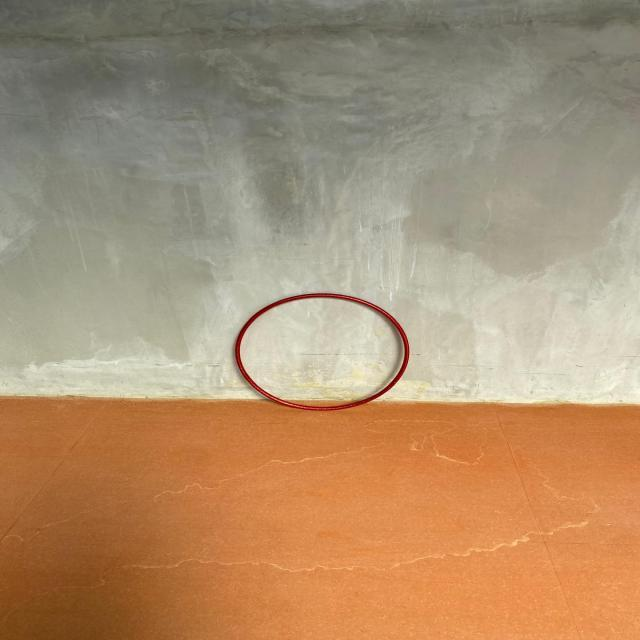Circle: (233, 291, 413, 411)
